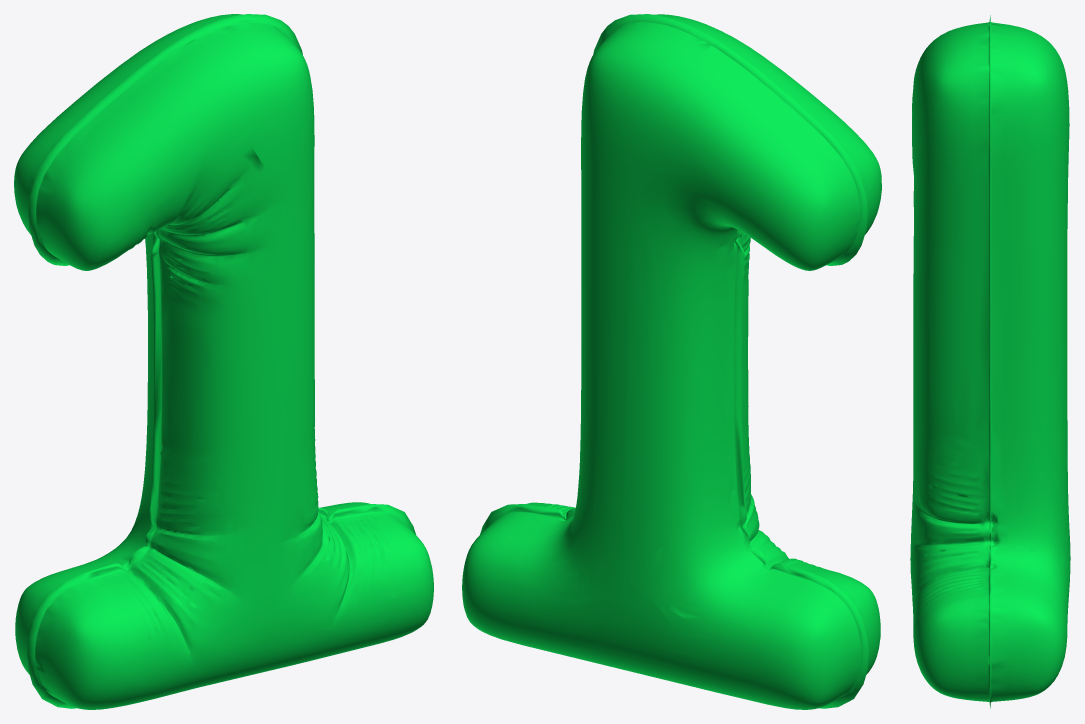
The model's file is zahlen-gold-nr1-gruppe.glb.
3 renders of one model, left to right at view 1: azimuth 30°, elevation 25°; view 2: azimuth 150°, elevation 25°; view 3: azimuth 270°, elevation 25°, orthographic. The views are drawn at different scales.
Visible parts, largest first — view 1: nr1; view 2: nr1; view 3: nr1.
Boxes of the visible parts, x1,y1,x2,y2 form: nr1: (14,14,433,709); nr1: (462,14,881,709); nr1: (910,15,1070,708).
Size of the model in its own units: 0.3891 by 0.6214 by 0.1468.
